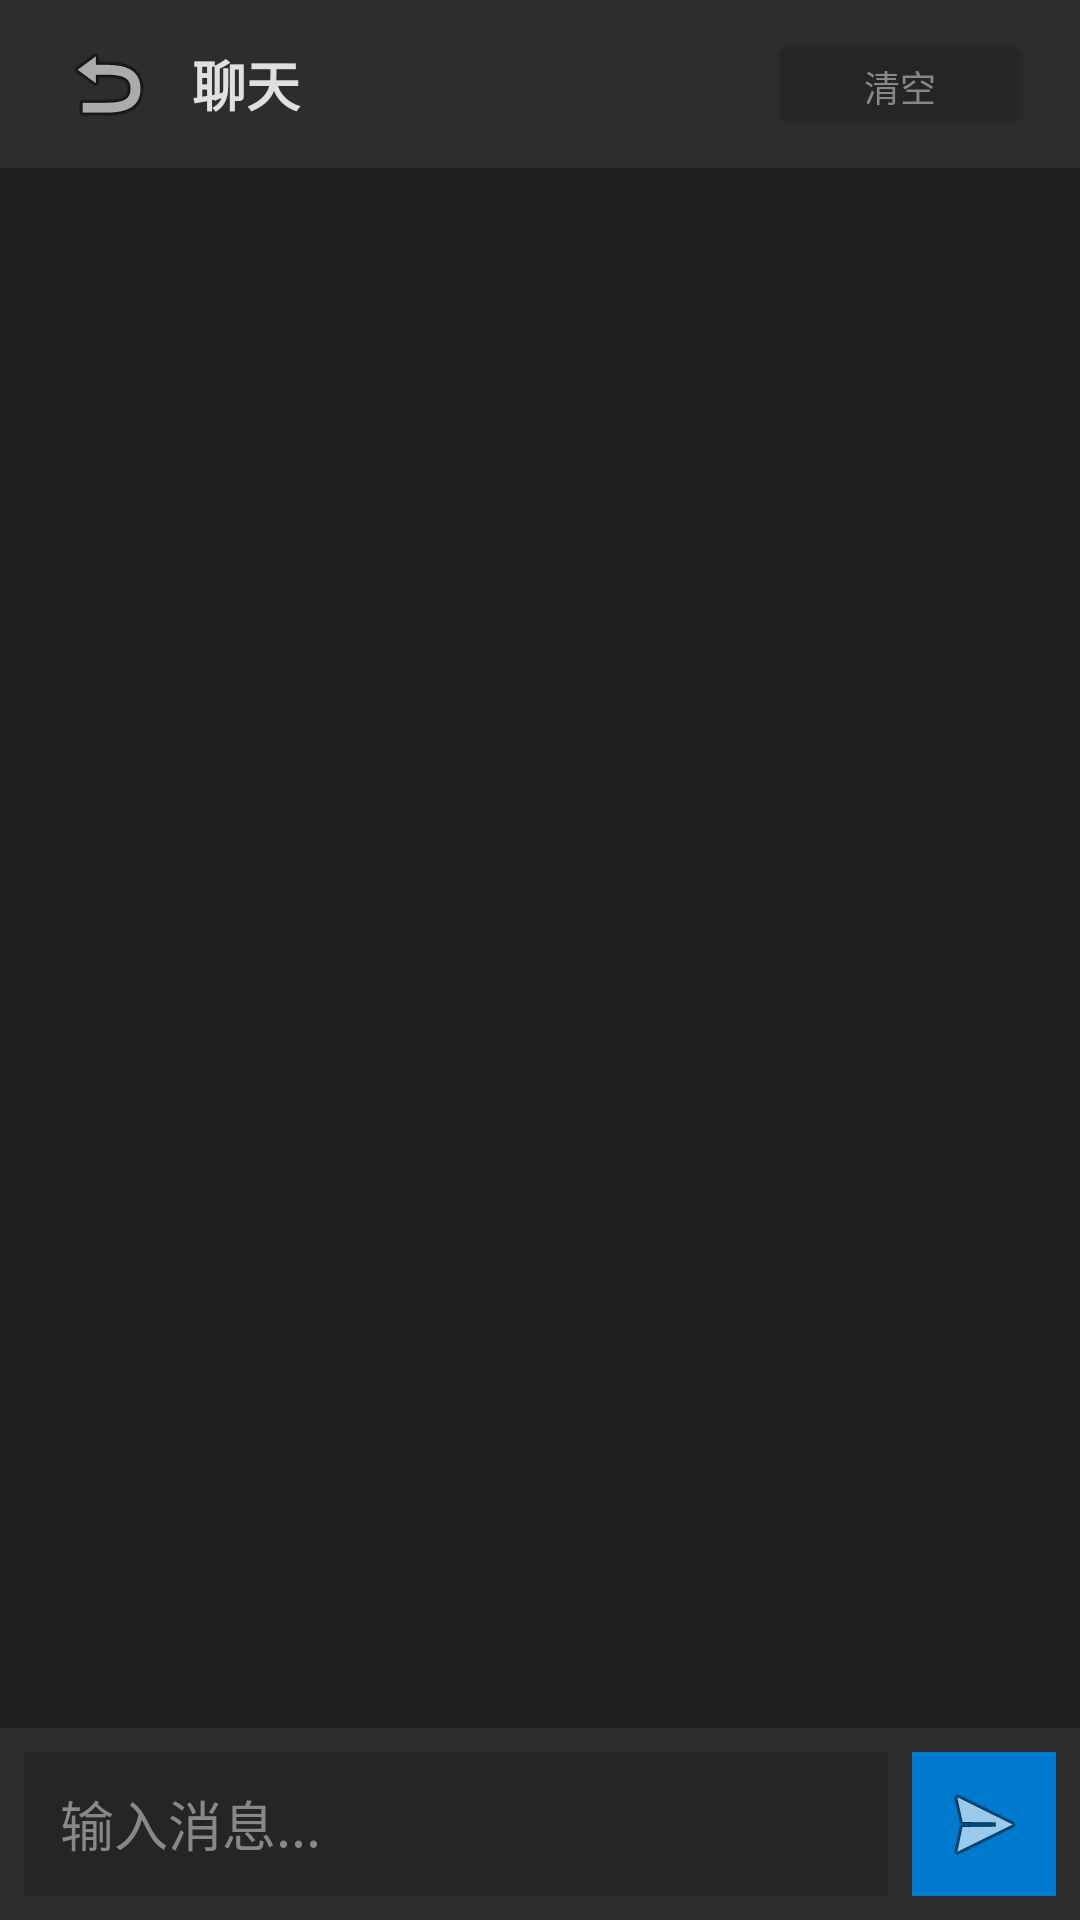

Screen size 1080x1920. Icon name, then its center in pixels as (x=x, y=y):
发送: (x=984, y=1824)
返回: (x=109, y=85)
